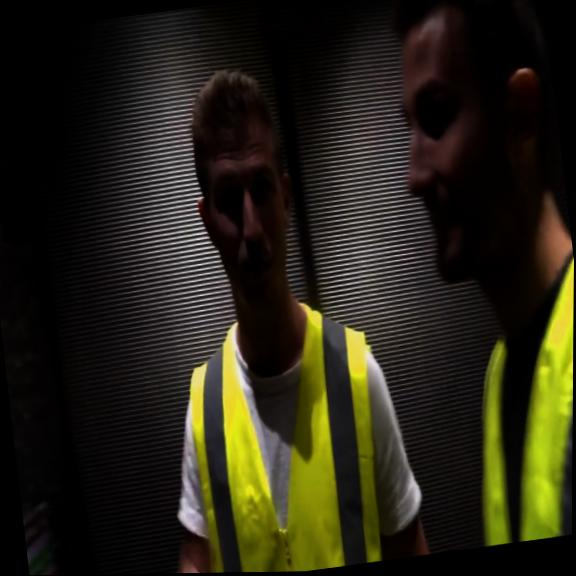safety_vest: (176, 285, 394, 573), (448, 246, 574, 546)
